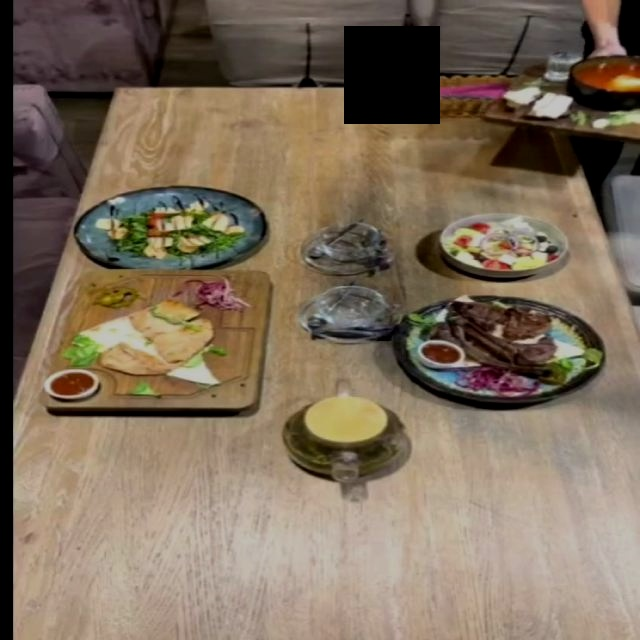meat: (38, 270, 274, 410), (389, 295, 605, 404)
salad: (71, 185, 263, 267), (436, 211, 570, 276)
soup: (495, 47, 640, 133)
tea: (280, 394, 409, 484)
